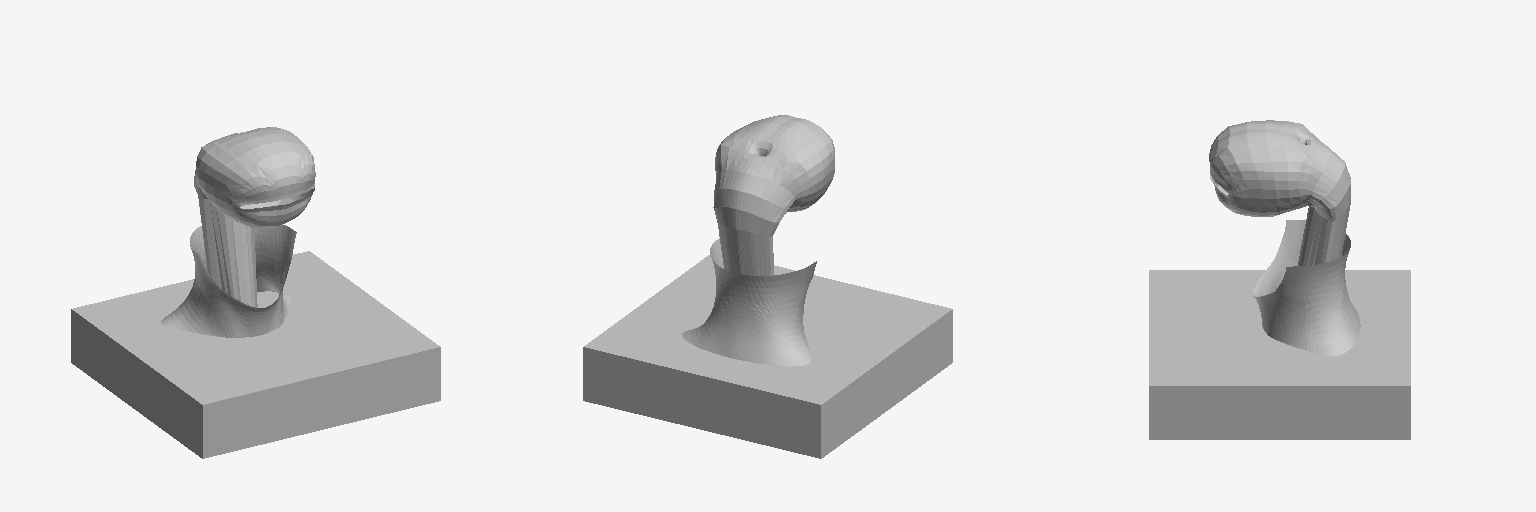
Rendered from newmaleneck.obj.
3 views of the same model, side by side, from view 1: azimuth 30°, elevation 25°; view 2: azimuth 150°, elevation 25°; view 3: azimuth 270°, elevation 25° (orthographic).
Parts seen in each view (by area): view 1: object_1, Genesis2Female, neck; view 2: object_1, Genesis2Female, neck; view 3: object_1, Genesis2Female, neck.
Part boxes in pixels (x1,y1,x2,y2): object_1: (71, 251, 440, 458); Genesis2Female: (194, 127, 315, 307); neck: (161, 224, 296, 337); object_1: (583, 254, 952, 458); Genesis2Female: (713, 115, 834, 275); neck: (682, 238, 816, 366); object_1: (1149, 270, 1410, 439); Genesis2Female: (1209, 120, 1350, 265); neck: (1253, 220, 1360, 356).
Size of the model in its own units: 0.1224 by 0.1238 by 0.1169.